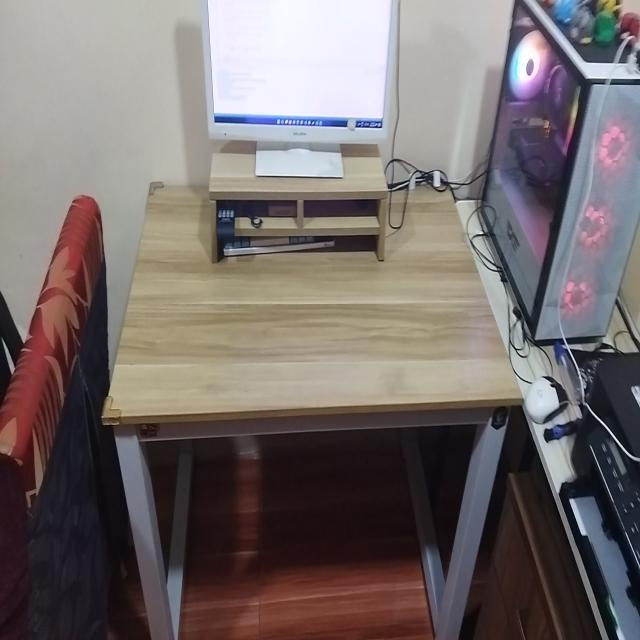table: (96, 170, 525, 640)
